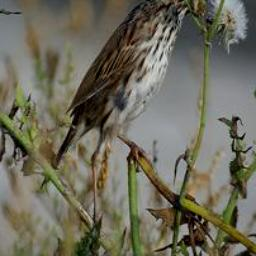Sparrow: (39, 0, 221, 190)
